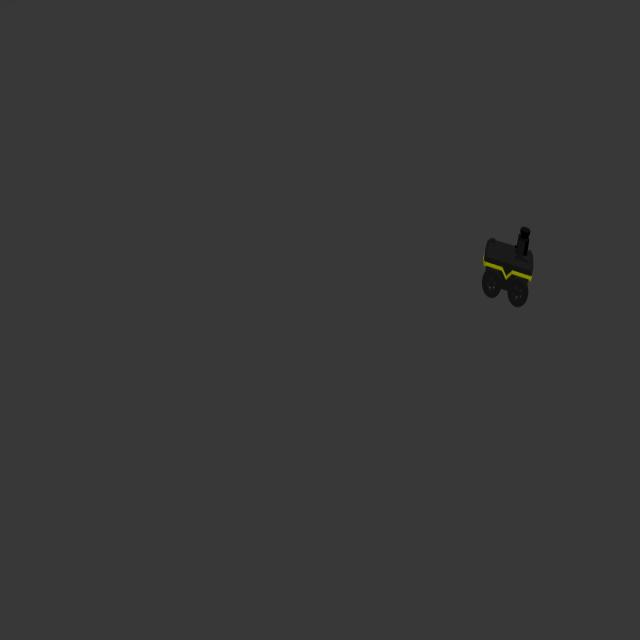jackal: (482, 223, 536, 309)
